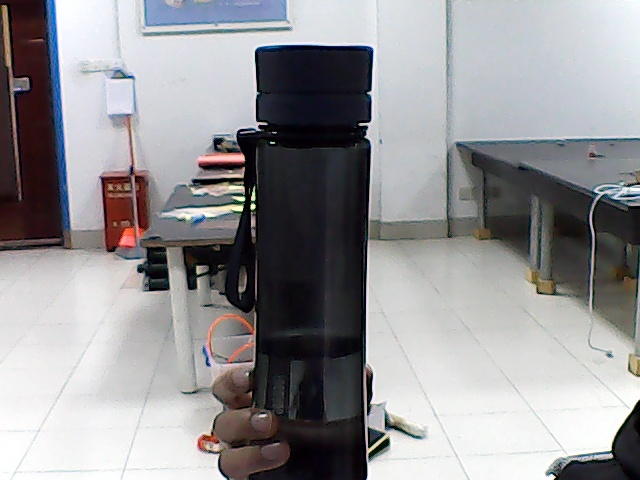cup: (289, 54, 341, 464)
